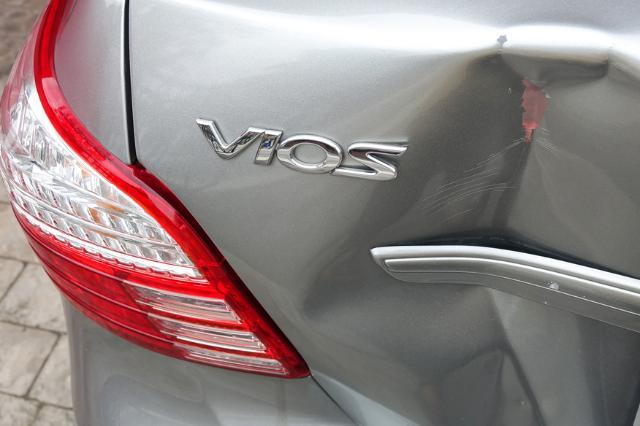Dickey: (322, 12, 624, 426)
